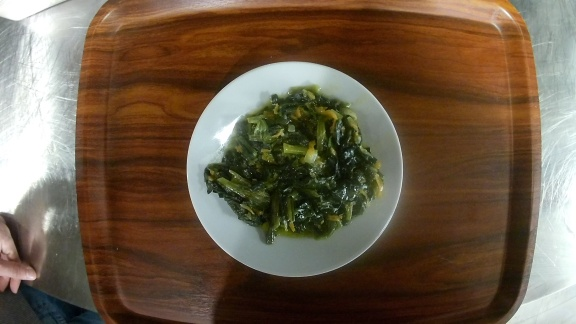ispanak: (183, 60, 409, 282)
